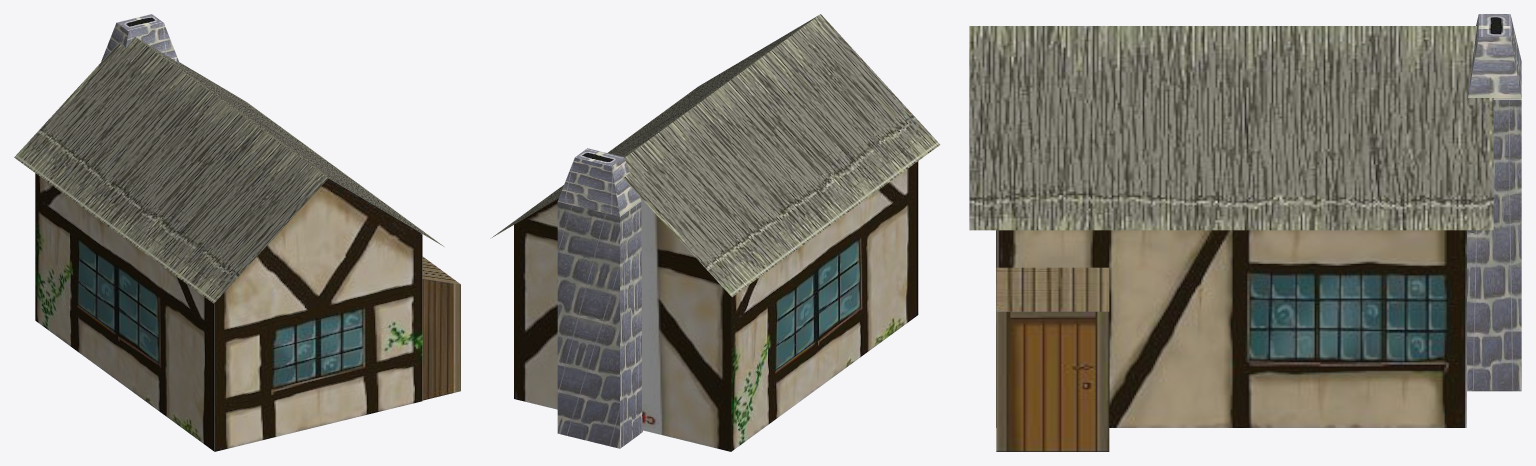
The model's file is house1.fbx.
3 renders of one model, left to right at view 1: azimuth 30°, elevation 25°; view 2: azimuth 150°, elevation 25°; view 3: azimuth 270°, elevation 25°, orthographic. The views are drawn at different scales.
Visible parts, largest first — view 1: polySurface12; view 2: polySurface12; view 3: polySurface12.
Part boxes in pixels (x1=…): polySurface12: x1=14, y1=14, x2=460, y2=451; polySurface12: x1=490, y1=14, x2=940, y2=451; polySurface12: x1=969, y1=14, x2=1521, y2=451.
Size of the model in its own units: 8.23 by 8.08 by 11.66.
1 material, 1 textured.
